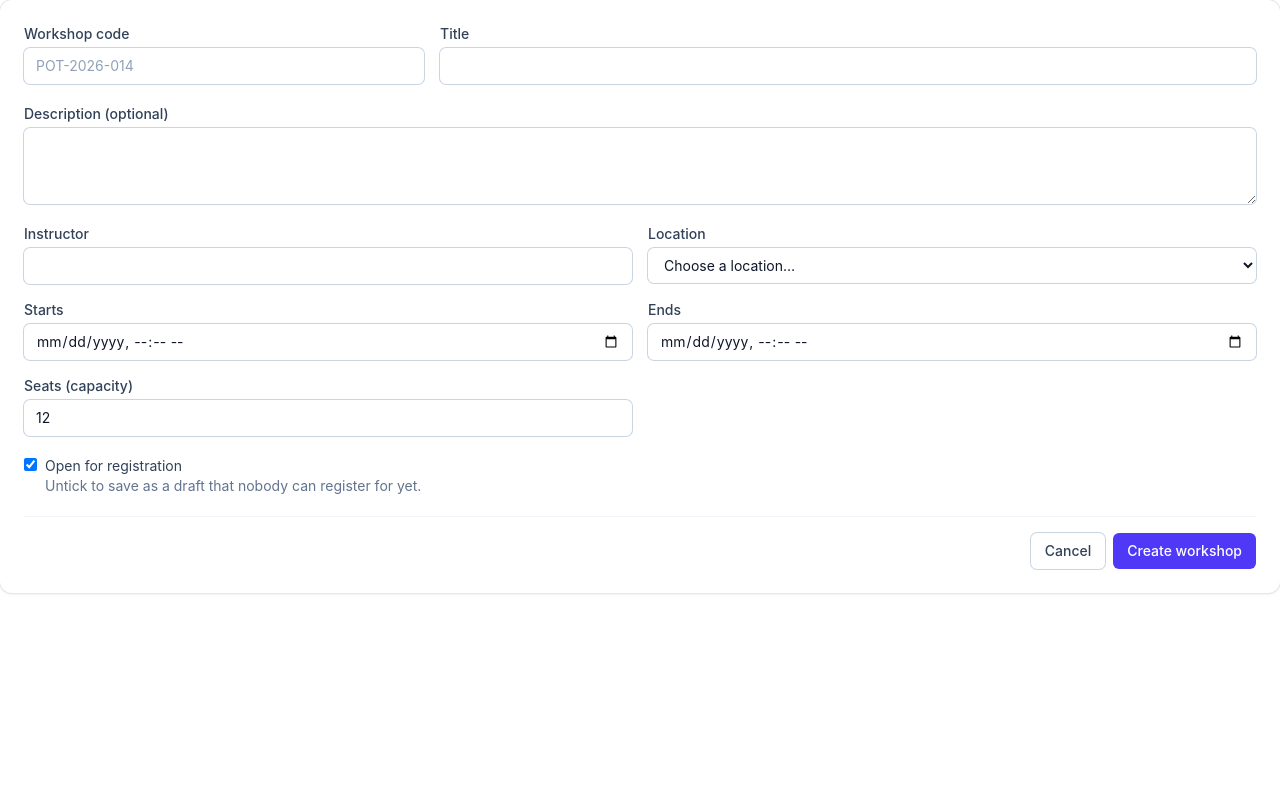
WorkshopForm › shows the server error when saving fails
In the field labelled "Workshop code": x=224, y=66 [24,48,424,84], type "pot-1"
In the field labelled "Title": x=848, y=66 [440,48,1256,84], type "Pottery"
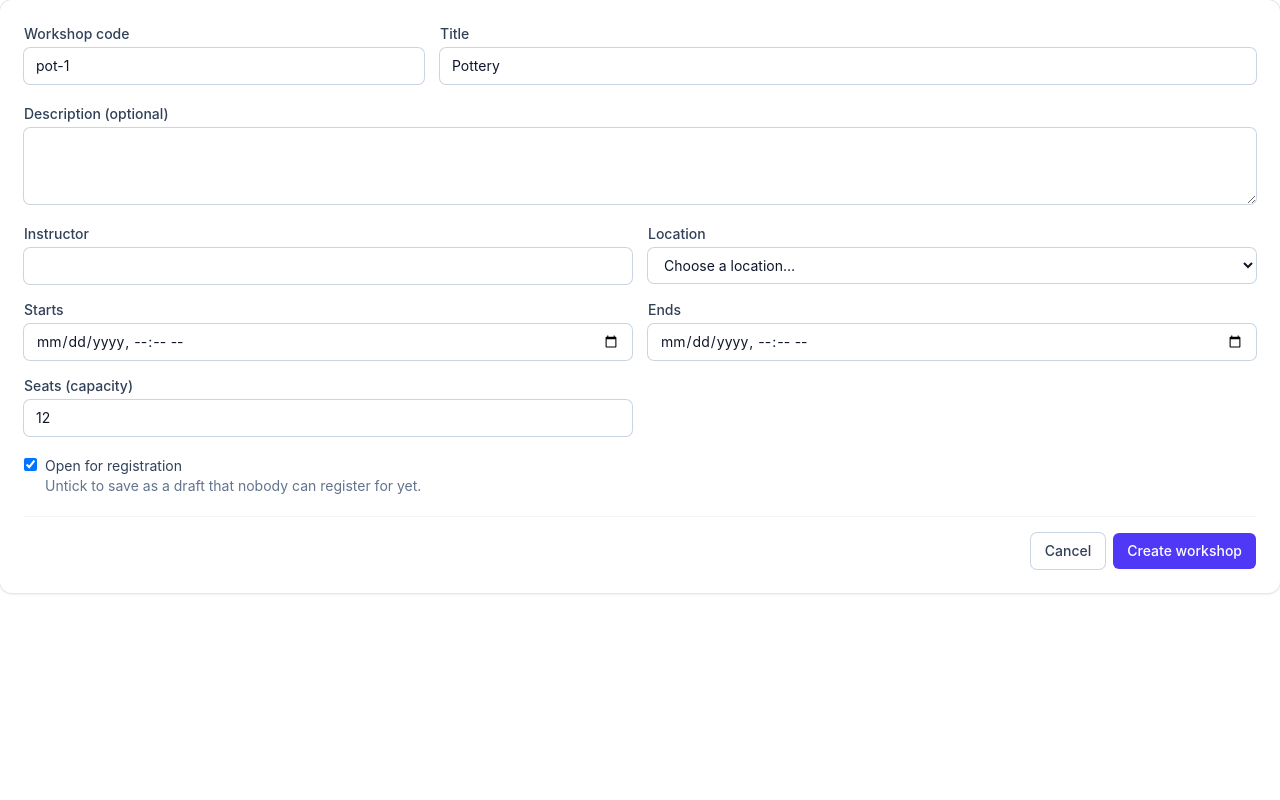
In the field labelled "Instructor": x=328, y=266 [24,248,632,284], type "Ada"
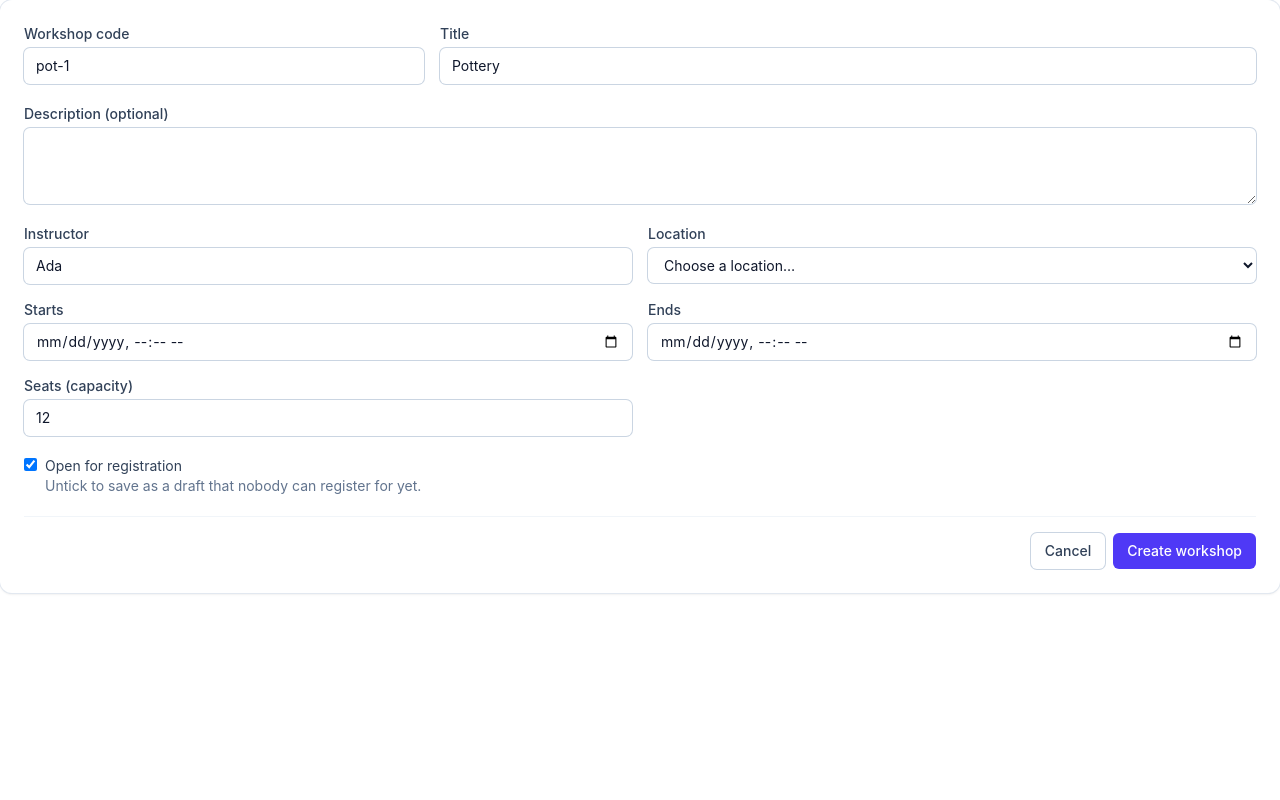
Select "Harbour Studio" in the dropdown labelled "Location": x=952, y=266 [648,248,1256,283]
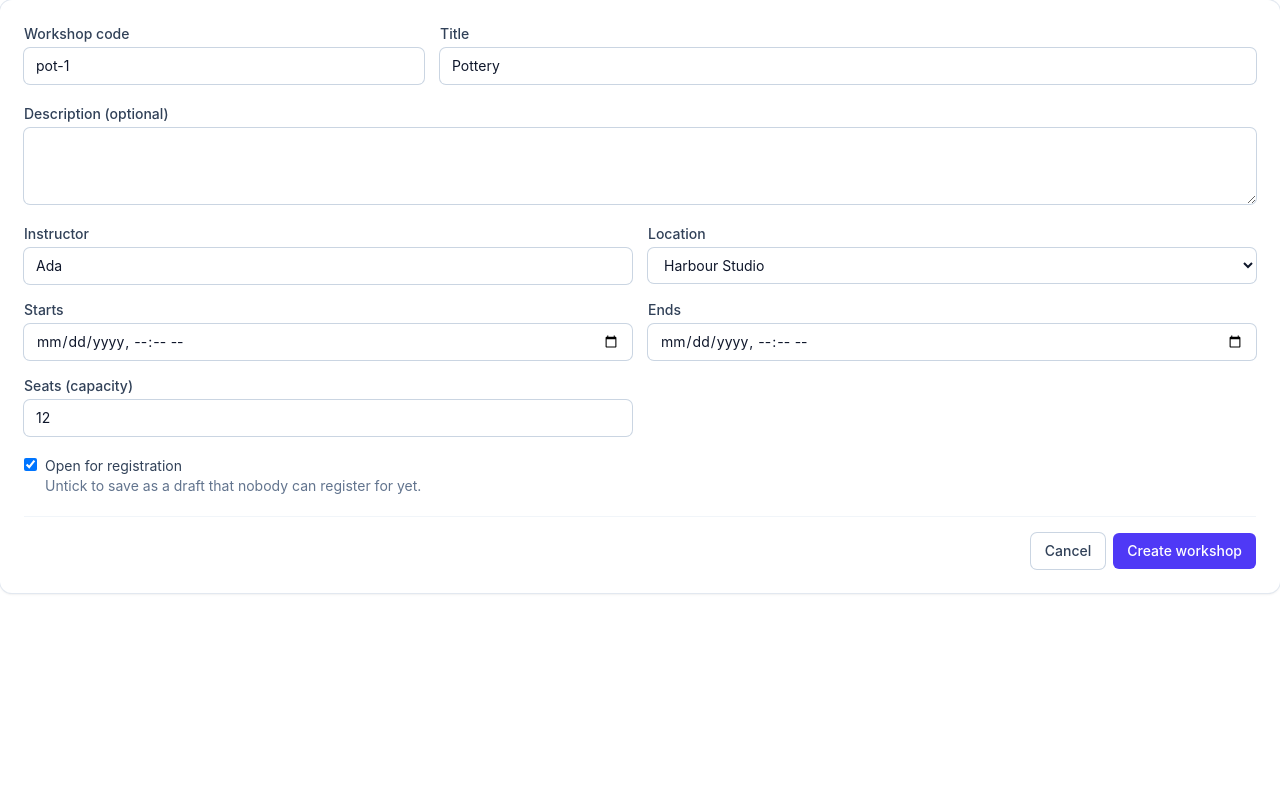
In the field labelled "Starts": x=328, y=342 [24,324,632,360], type "2030-05-01T10:00"
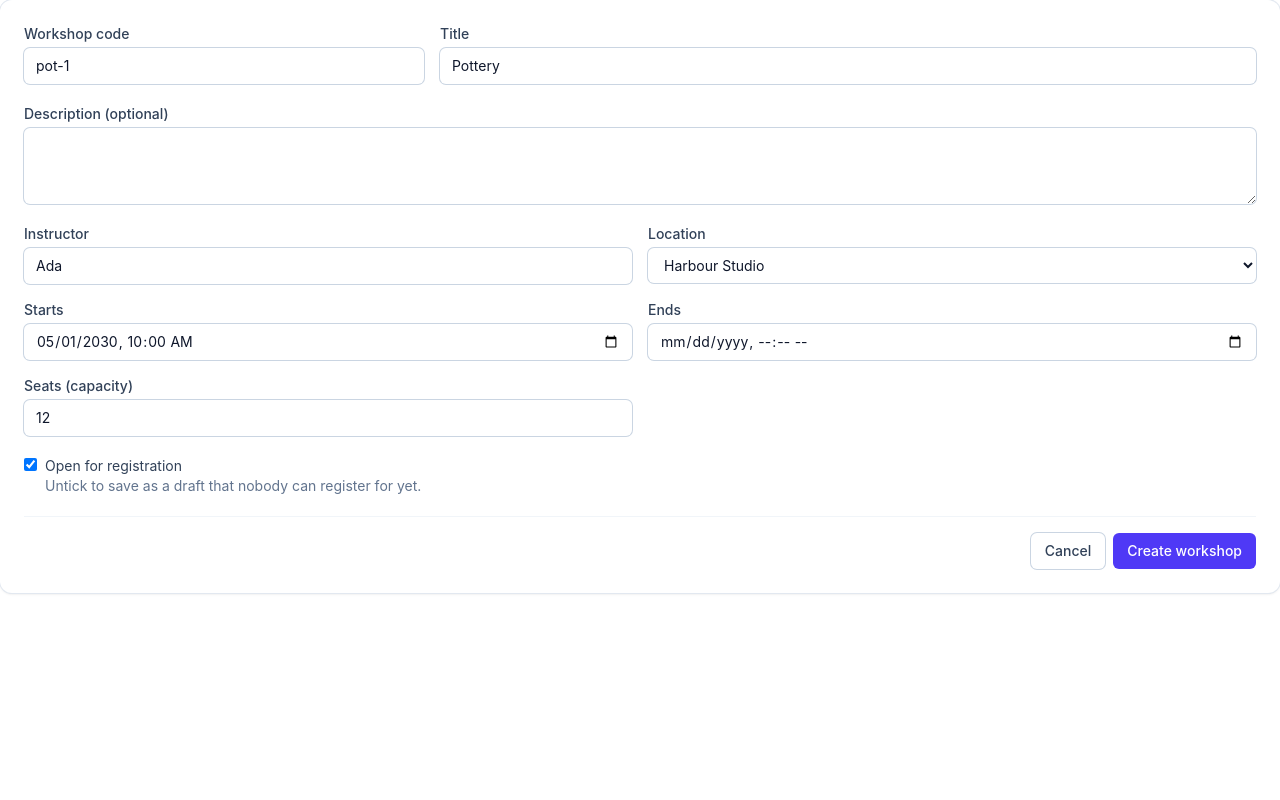
In the field labelled "Ends": x=952, y=342 [648,324,1256,360], type "2030-05-01T12:00"
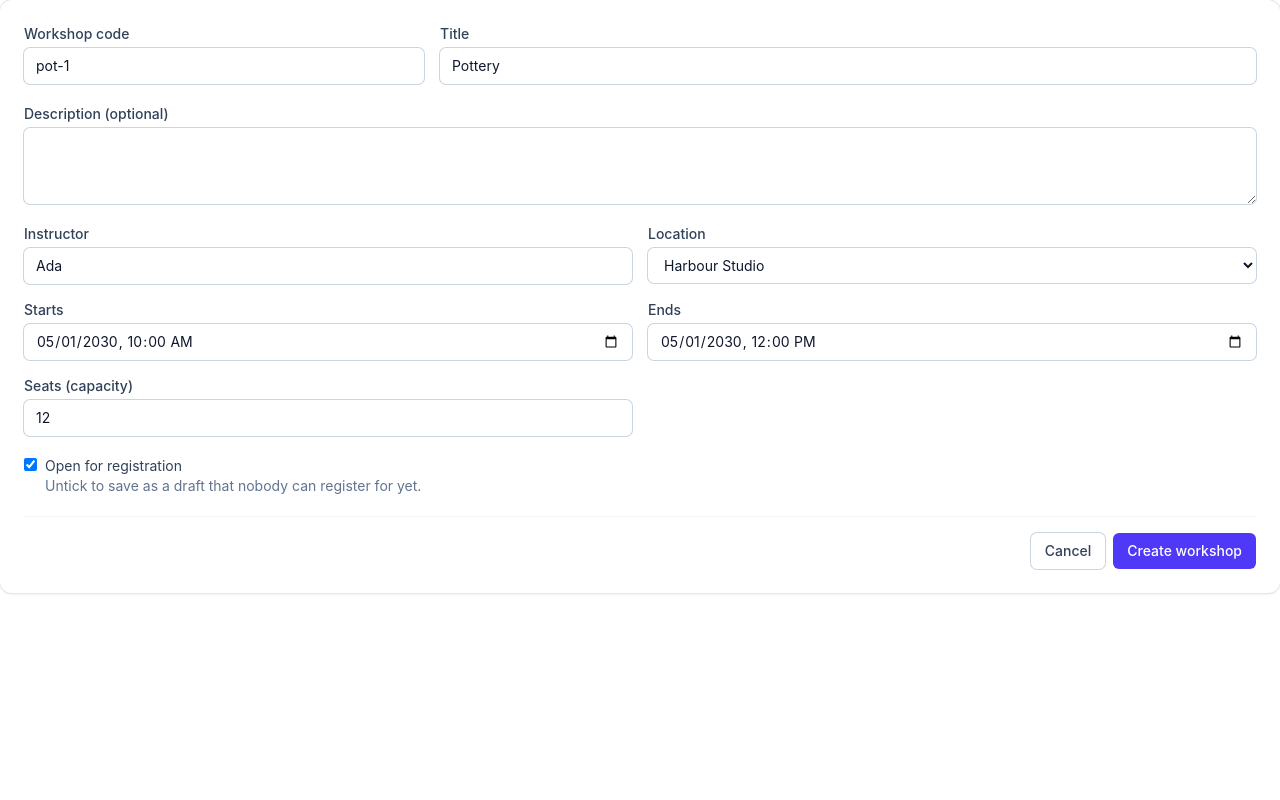
Click the button "Create workshop": x=1185, y=551 [1113,533,1256,569]
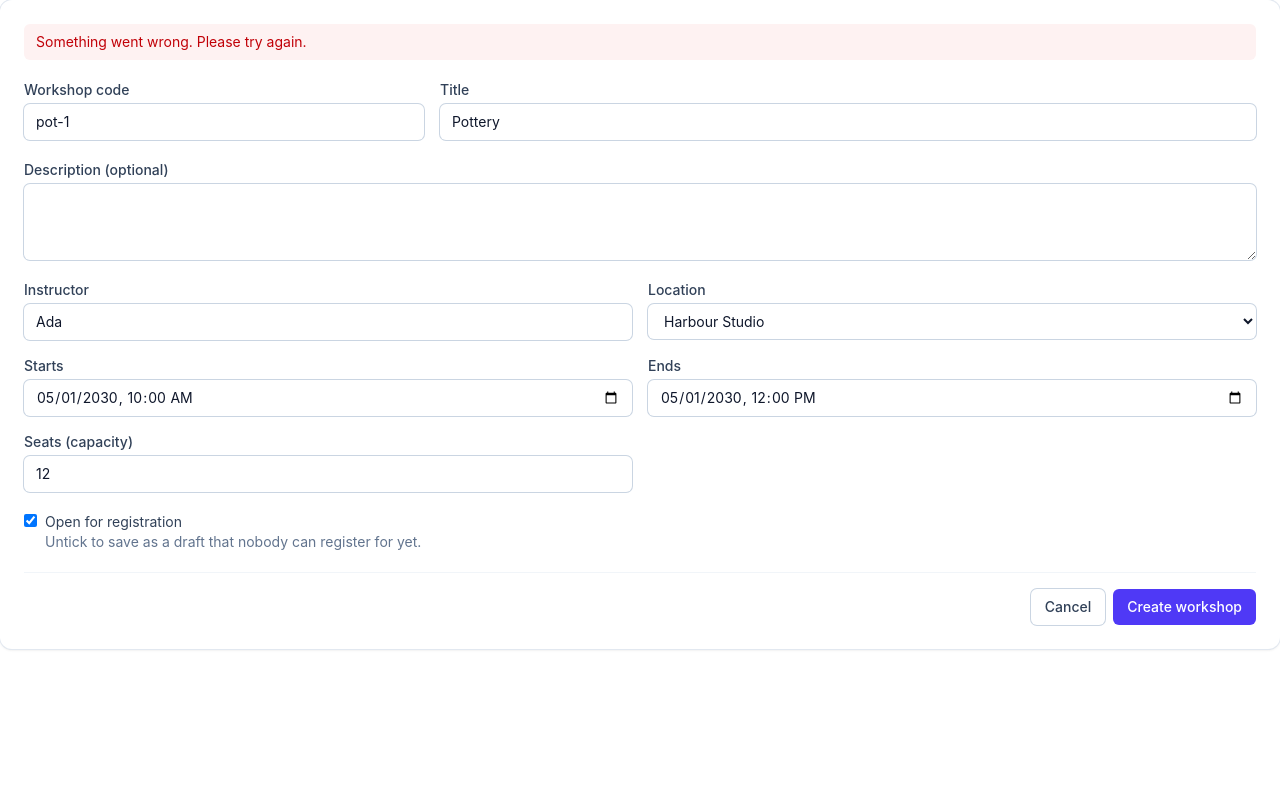
Expected: the message shows "Something went wrong", [36,33,307,50]
